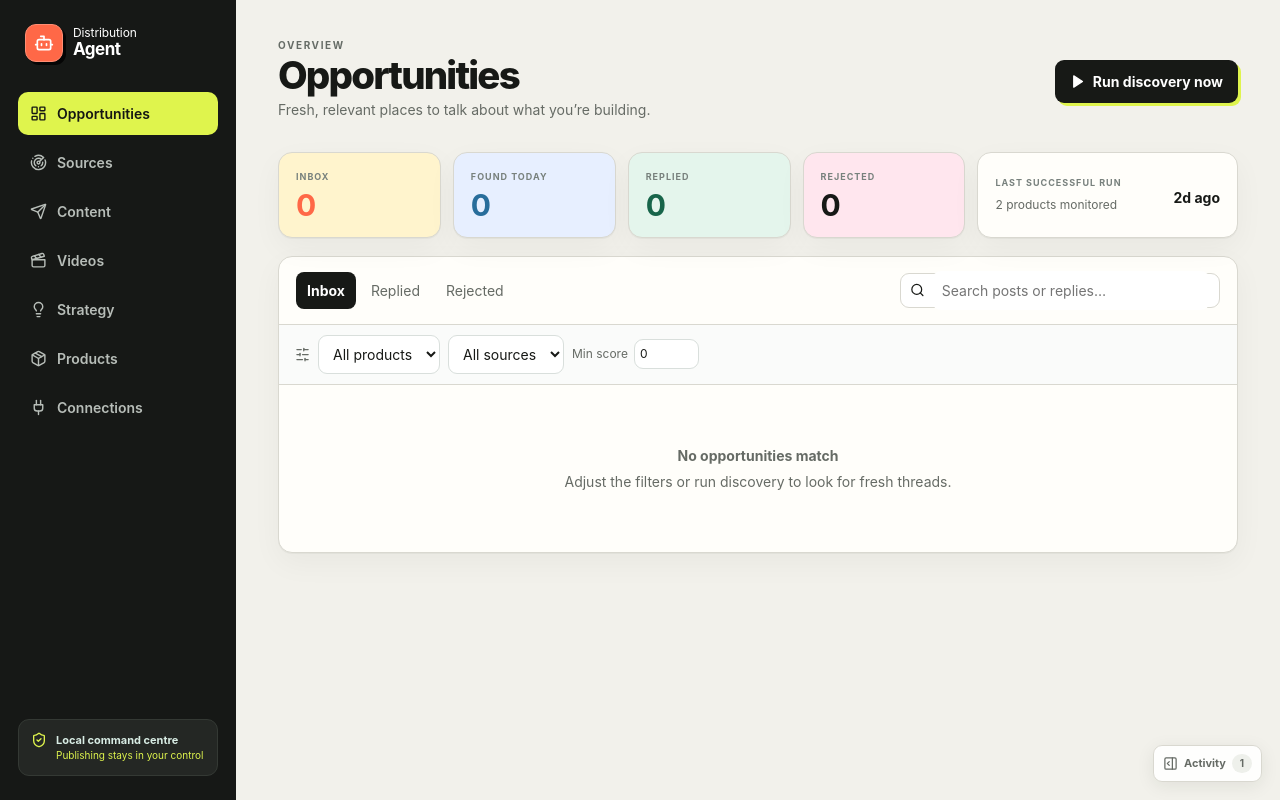
Test: dashboard UI › distinguishes provider warnings from candidate errors
Click the button "Activity 1": [1208, 764] box [1153,745,1262,782]
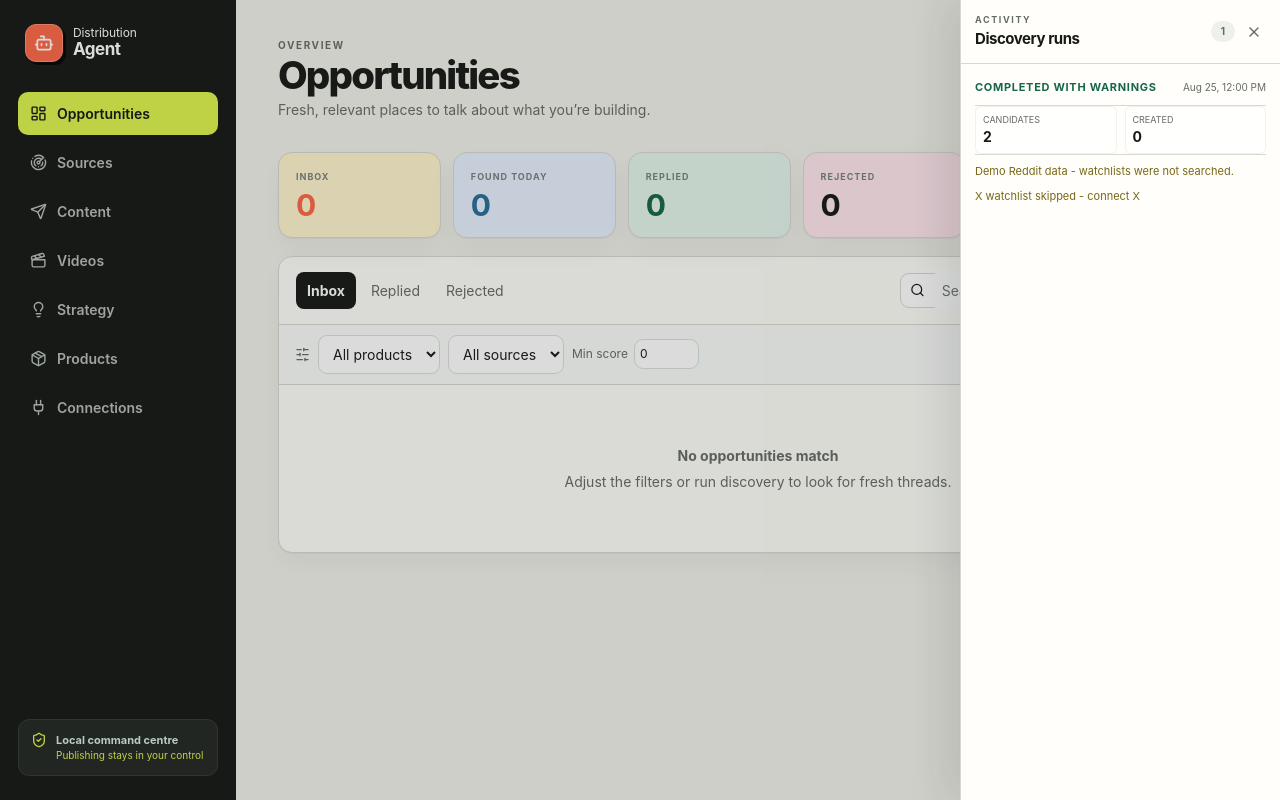
Expected: the text "Demo Reddit data - watchlists were not searched." is shown, [975,163,1266,180]
Expected: the text "X watchlist skipped - connect X" is shown, [975,188,1140,202]
Expected: the text "completed with warnings" is shown, [975,79,1157,96]
